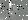person: (11, 3, 18, 16)
